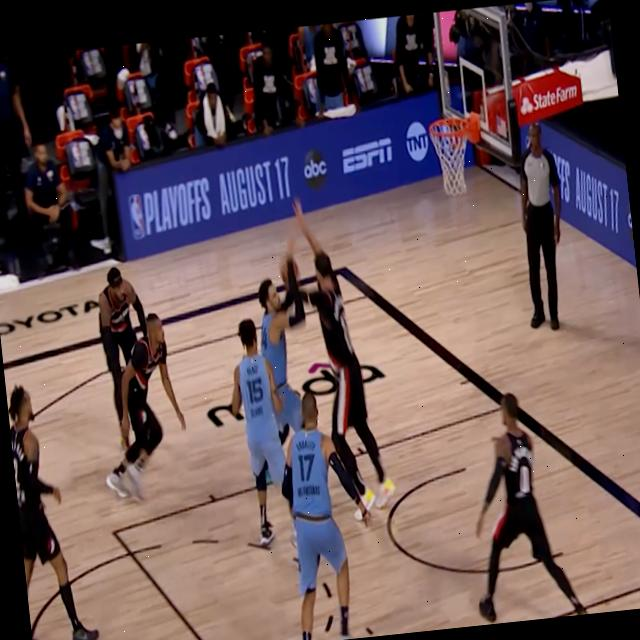no foul: (286, 199, 402, 510), (205, 250, 322, 554), (62, 246, 189, 494), (274, 379, 368, 640), (100, 321, 204, 510)
